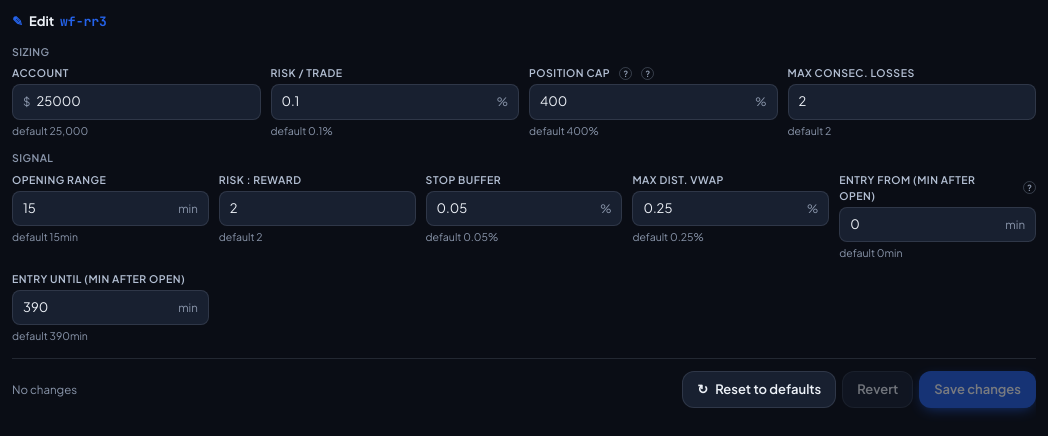
Scenario: ConfigEditor › tracks dirty count and Revert restores saved values
Replace the text in the number field labelled "Position cap" with "500" at x=645, y=102, box [540,92,749,112]
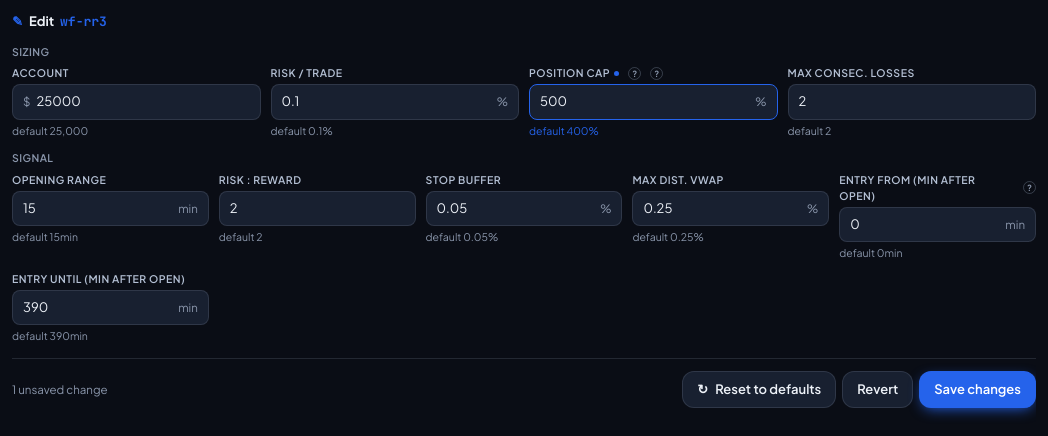
Expected: the text "1 unsaved change" is shown, [12,381,108,398]
Expected: the button with aria-label "save wf-rr3" is enabled, [919,371,1036,408]
Click the button "Revert" at x=878, y=390, box [842,371,913,408]
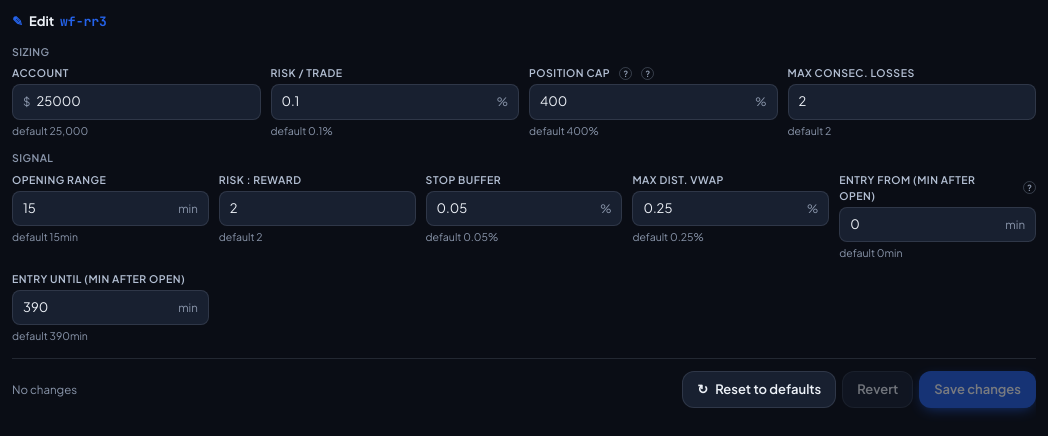
Expected: the text "No changes" is shown, [12,381,77,398]
Expected: the number field labelled "Position cap" holds "400", [540,92,749,112]
